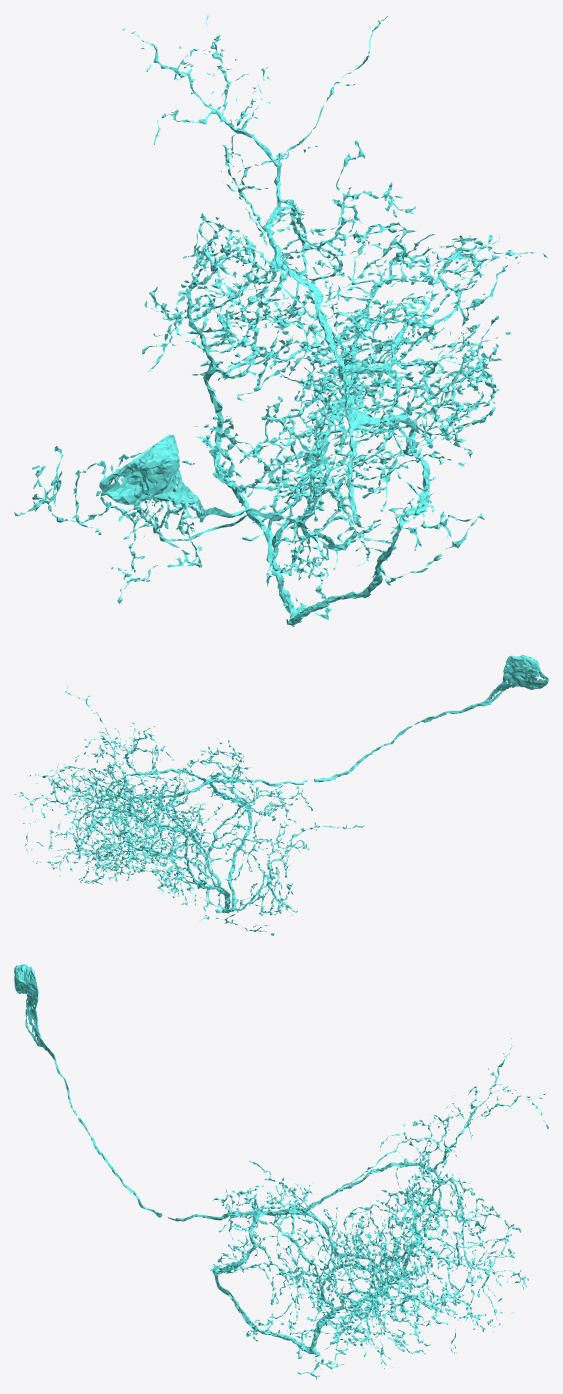
File: VFB_jrmc1j6a.glb
3 views of the same model, one above another, from view 1: azimuth 30°, elevation 25°; view 2: azimuth 150°, elevation 25°; view 3: azimuth 270°, elevation 25° (orthographic). The views are drawn at different scales.
Visible parts, largest first — view 1: VFB_jrmc1j6a; view 2: VFB_jrmc1j6a; view 3: VFB_jrmc1j6a.
Boxes of the visible parts, x1,y1,x2,y2 form: VFB_jrmc1j6a: [14, 14, 548, 626]; VFB_jrmc1j6a: [14, 655, 548, 935]; VFB_jrmc1j6a: [14, 964, 548, 1379].
Size of the model in its own units: 0.1087 by 0.0694 by 0.1067.
